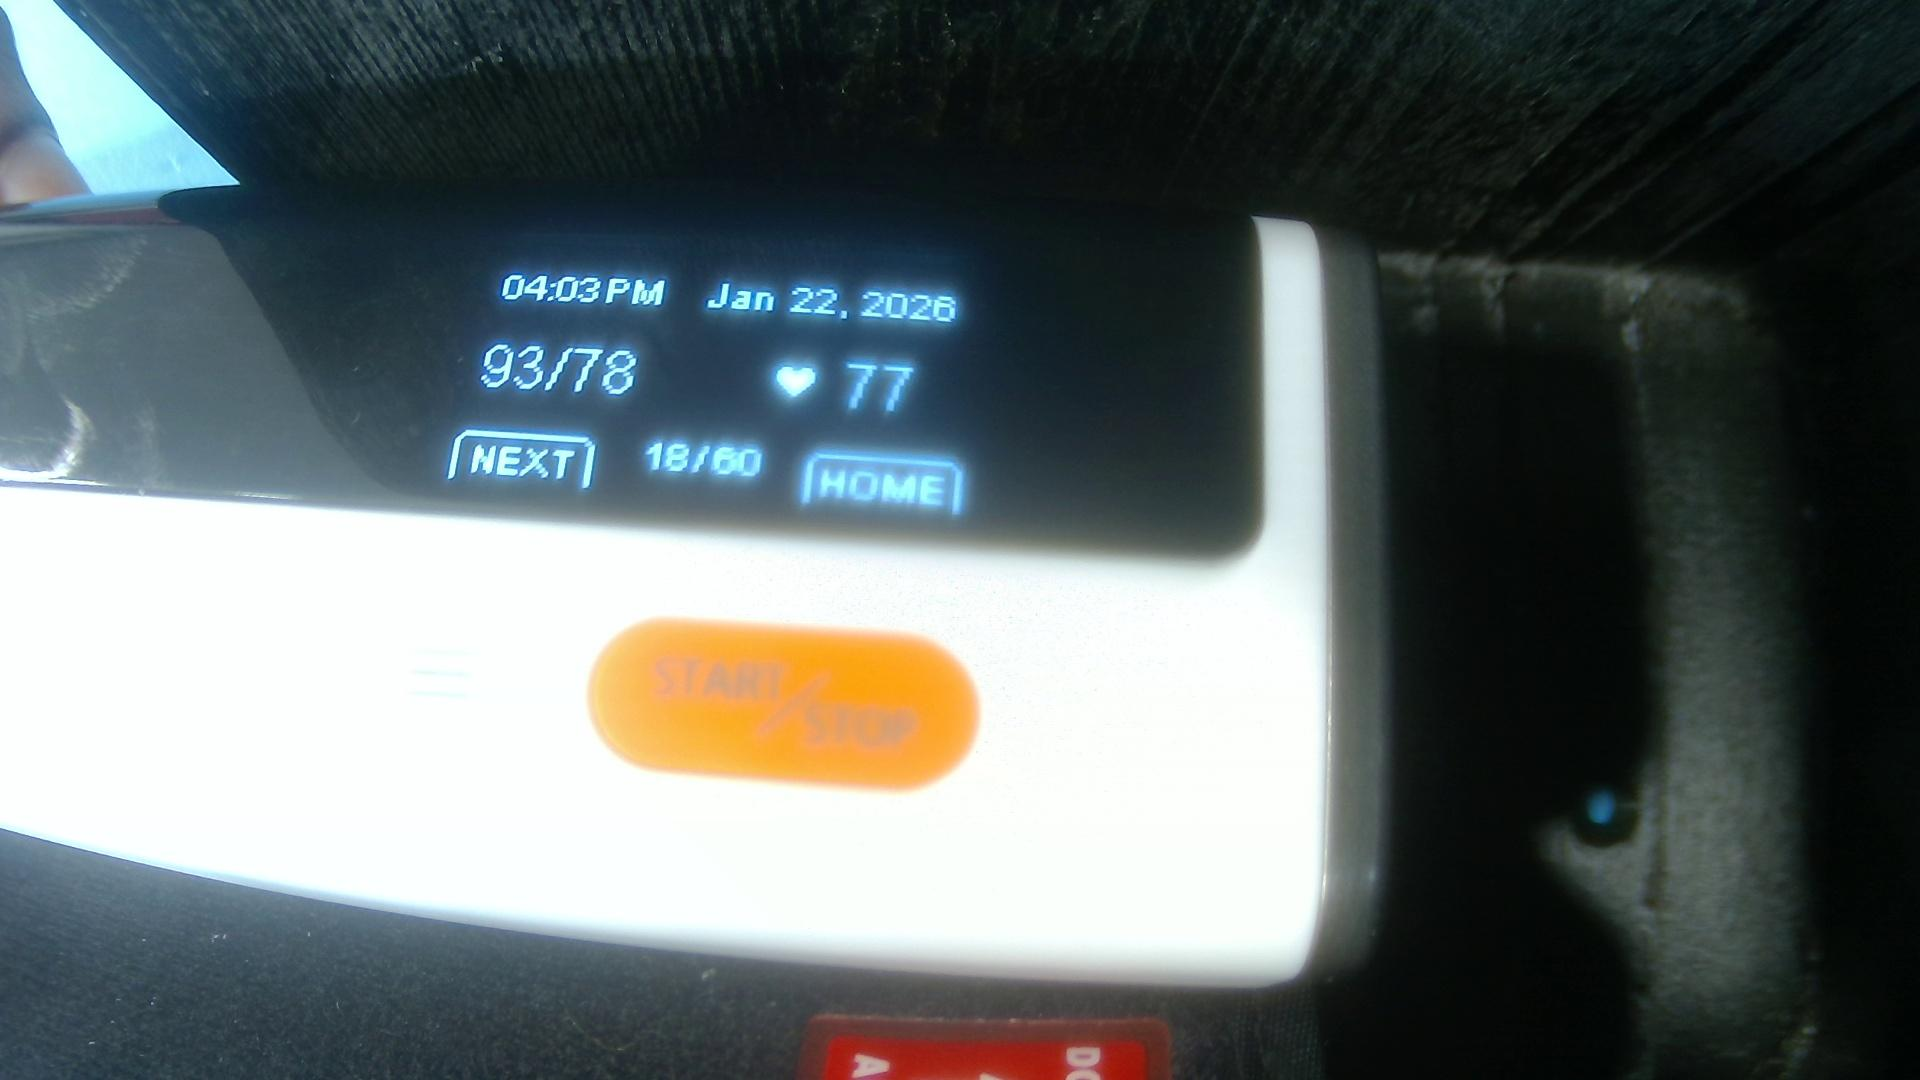DISPLAY: (7, 200, 1246, 558)
